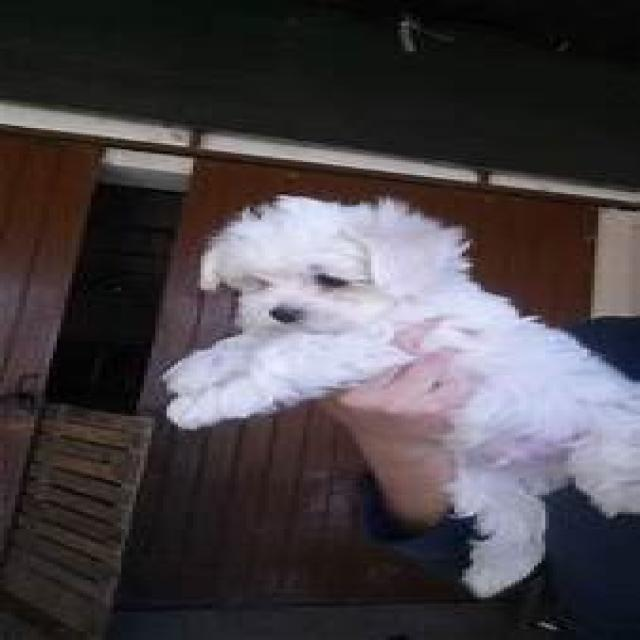dog: (166, 196, 639, 596)
